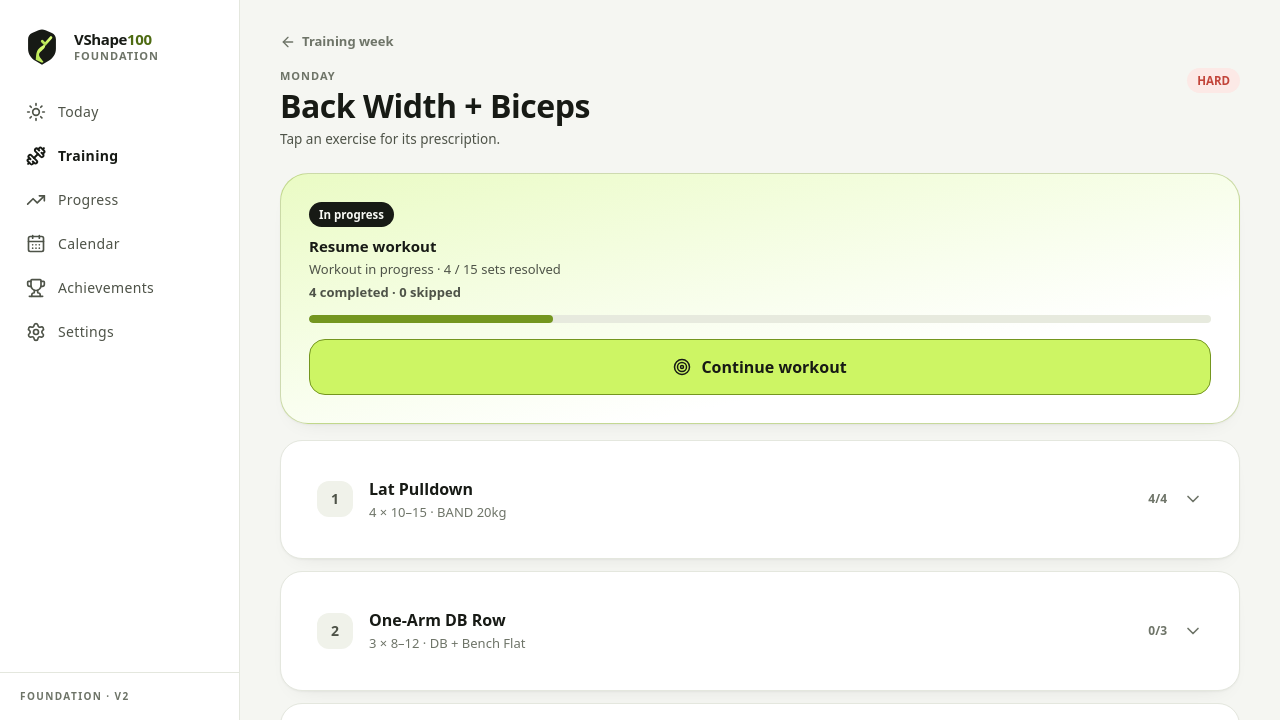
Test: 1. the opening exercise is derived, never guessed › opens on the exercise holding the first PENDING set, not the first exercise
Expected: the heading "Back Width + Biceps" is shown, [280,88,590,125]
Step 1. Click the button "Continue workout" → (760, 367), box [309,339,1211,395]
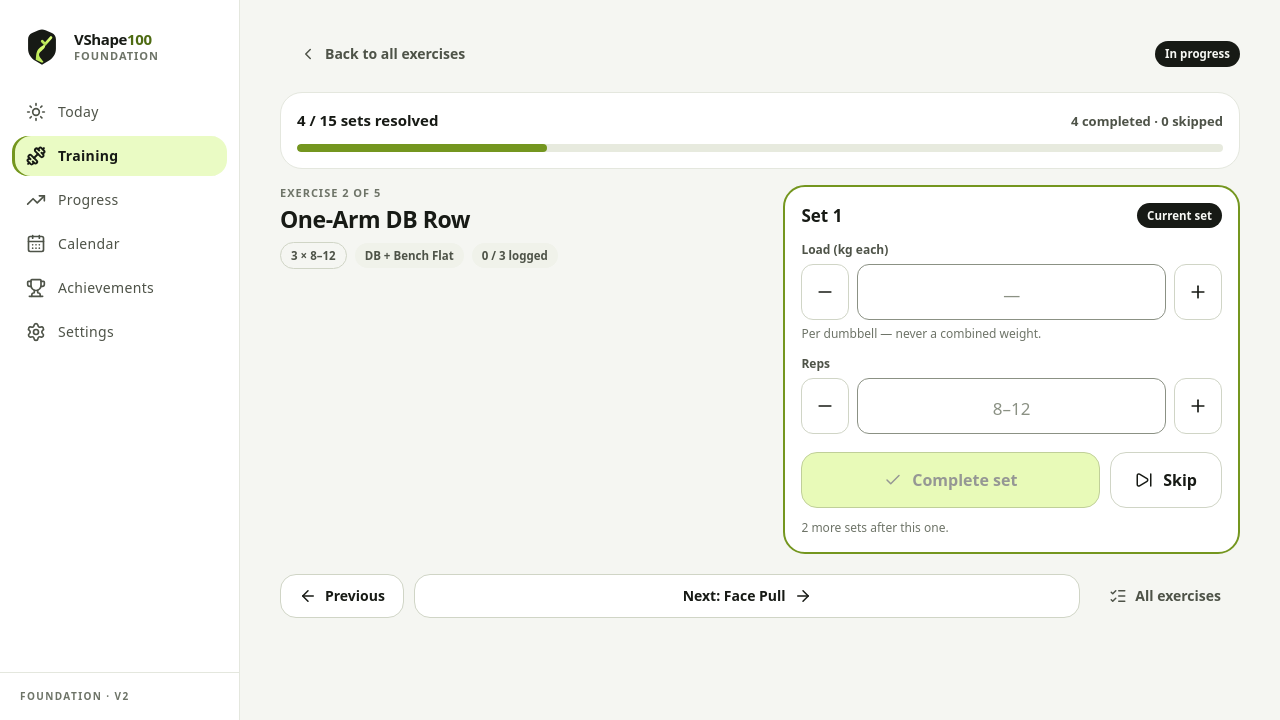
Expected: the heading reads "One-Arm DB Row", [280,203,470,235]
Result: the text "Exercise 2 of 5" is shown at [280,184,381,200]
